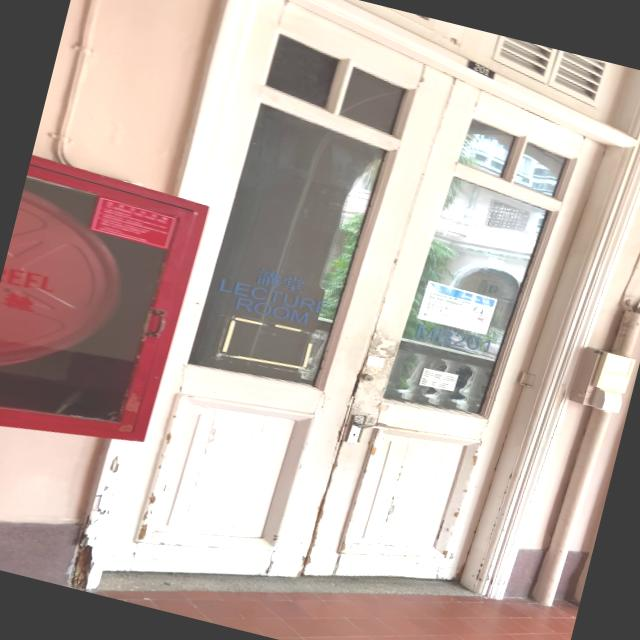room201: (463, 58, 498, 81)
room201Window: (410, 319, 496, 356)
